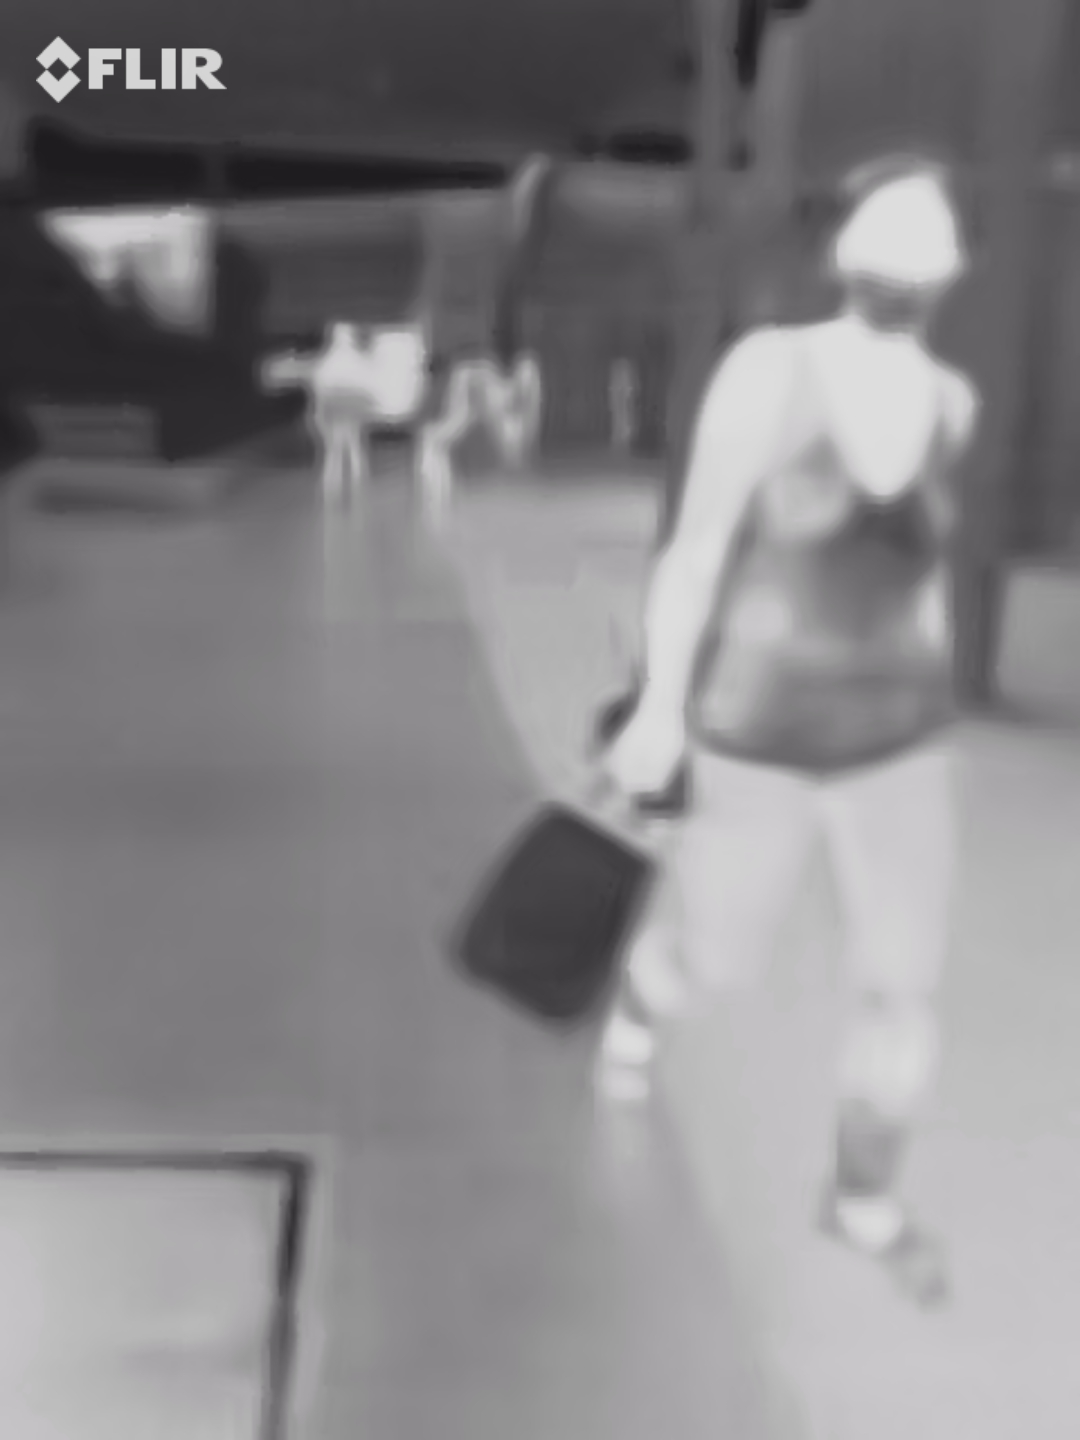head: (824, 153, 973, 341)
